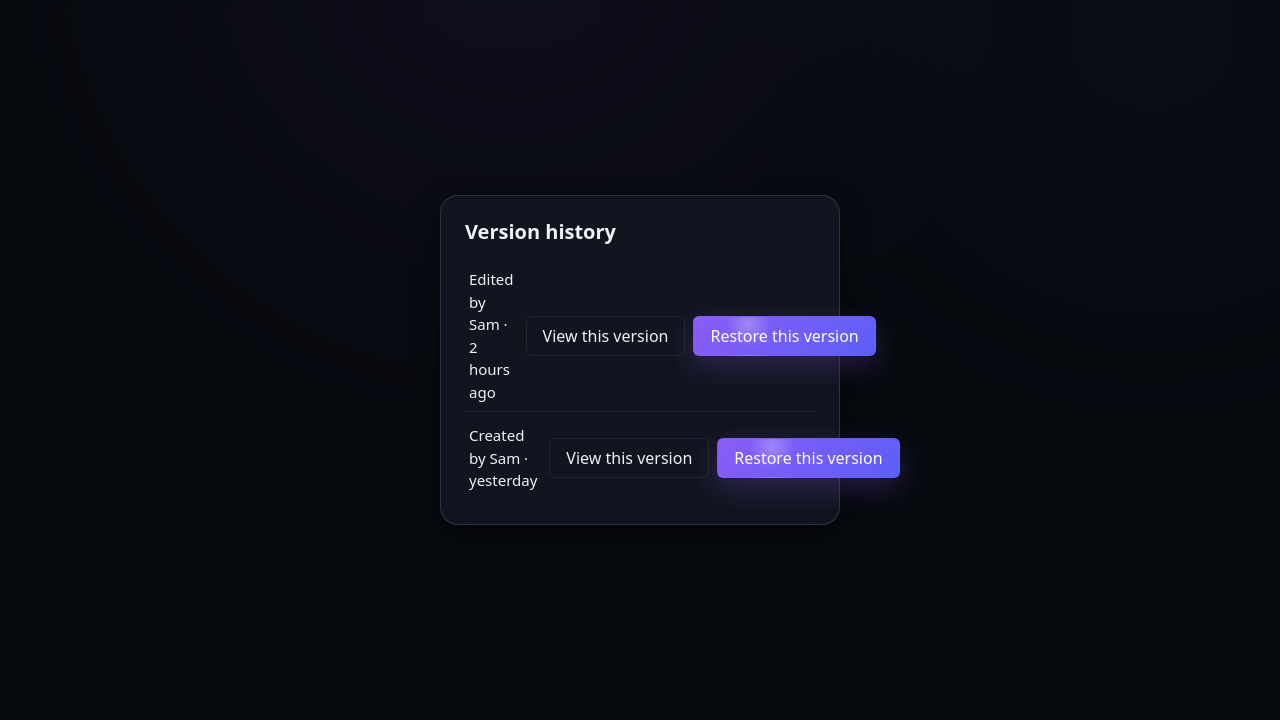
Test: HistoryPanel › previews an old version via 'View this version'
Click the button "View this version" in the row of "Created" at (629, 458), box [549, 438, 709, 478]
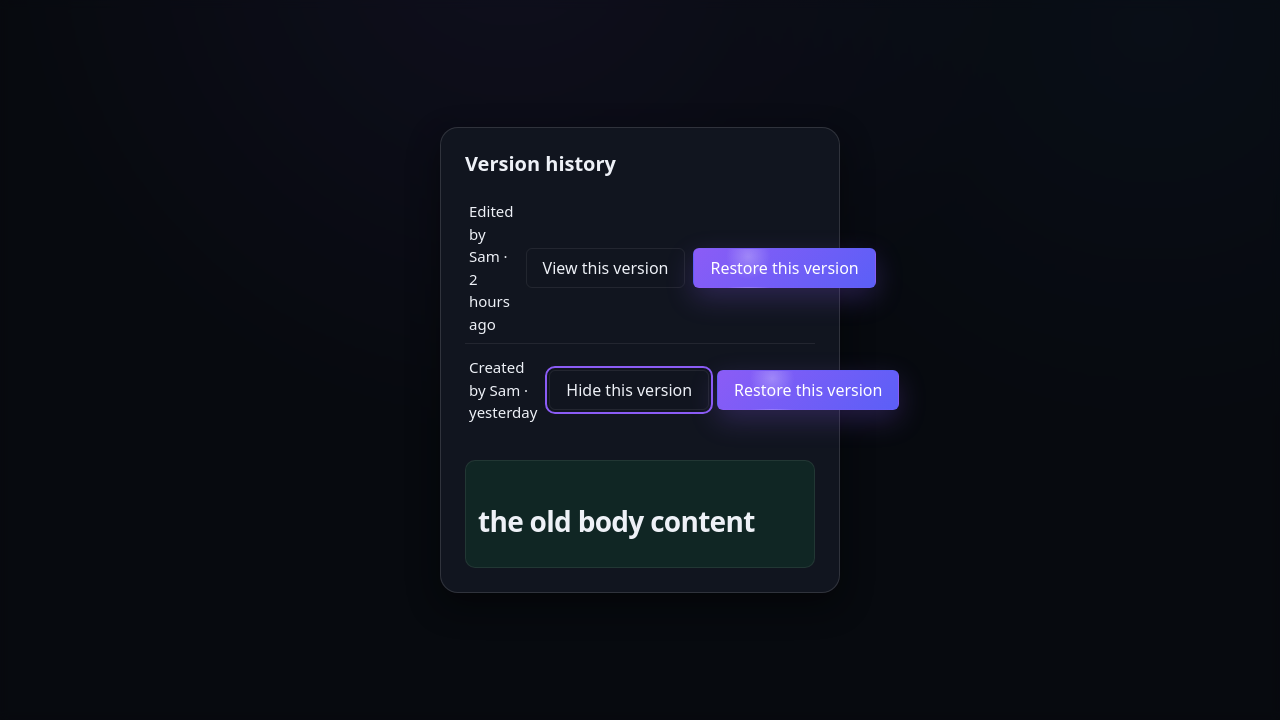
Check: the heading "the old body content" is shown, box [478, 505, 802, 539]
